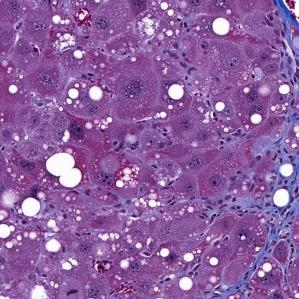fibrosis: (245, 140, 299, 238)
